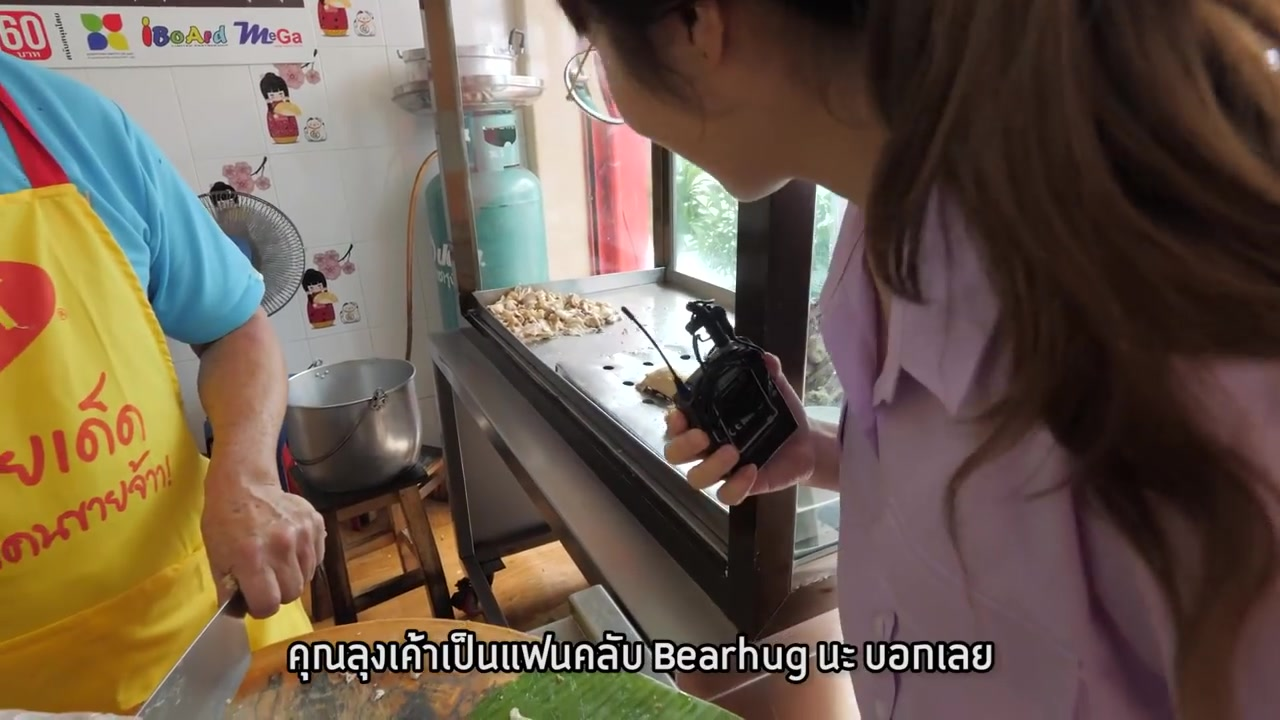text-label: (285, 624, 1001, 684)
